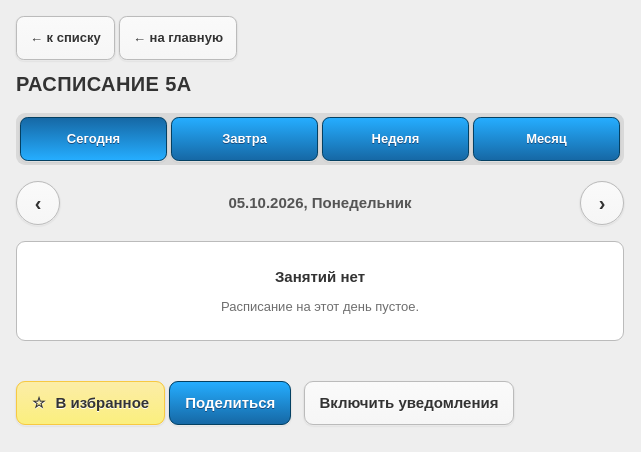
Test case: Schedule screen › schedule view setting › falls back to «Карточки» for «Сейчас / далее» in the week view
Step 1. Click the tab "Неделя" → (396, 139), box [322, 117, 469, 161]
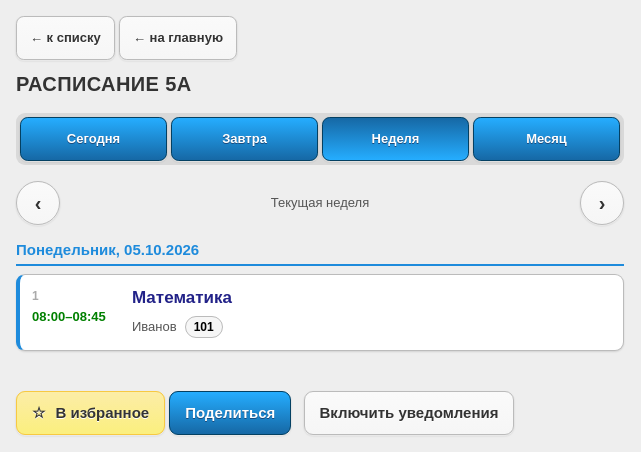
Expected: the text "Математика" is shown, [132, 288, 232, 307]
Expected: the list with class "cards" is shown, [16, 274, 624, 351]
